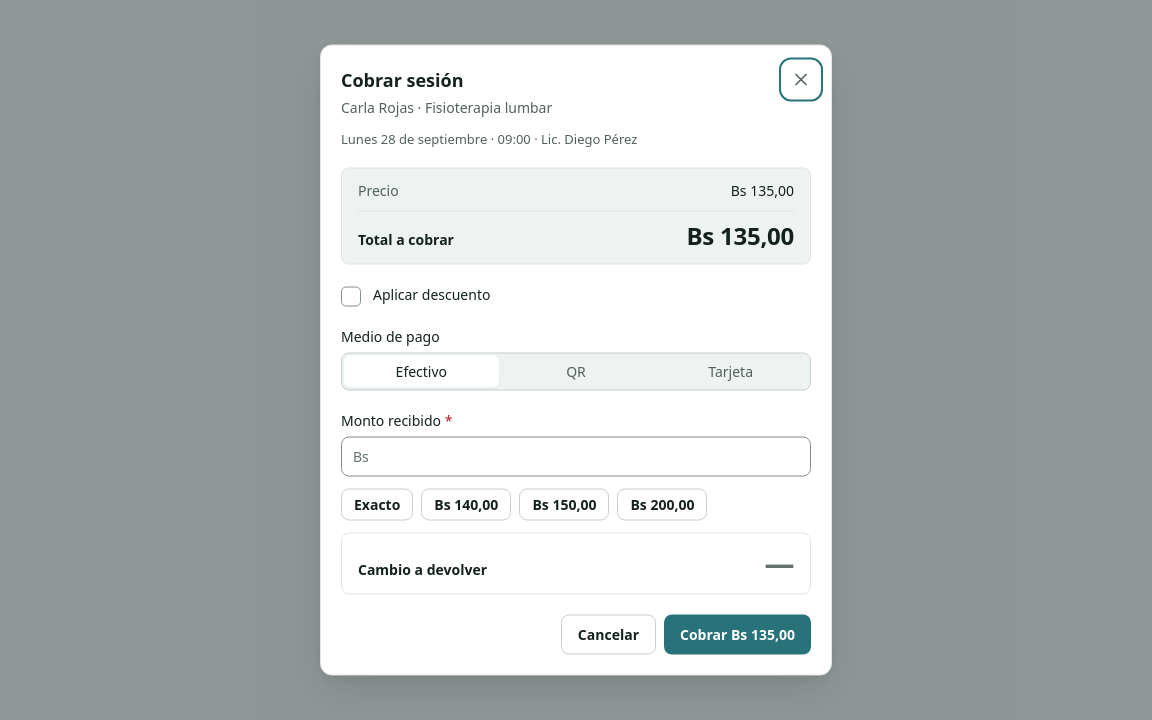
it: cobro de una sesión › calcula el cambio a devolver mientras se escribe el monto recibido
The image size is (1152, 720).
Expected: the text "Bs 135,00" in the row of "Total a cobrar" is shown, [686,218,794,252]
Type "200" into the field labelled "Monto recibido *". click: {"x": 576, "y": 456}
box: [341,436,811,476]
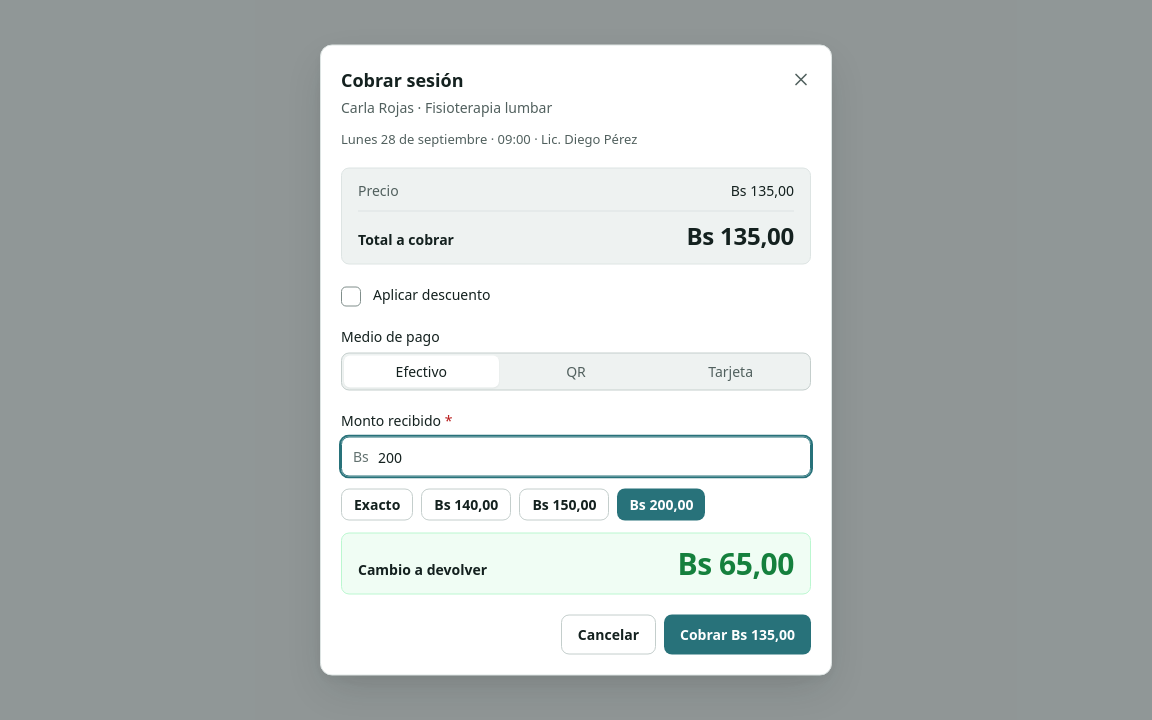
Click the button "Exacto". click: {"x": 377, "y": 504}
box: [341,488,413,520]
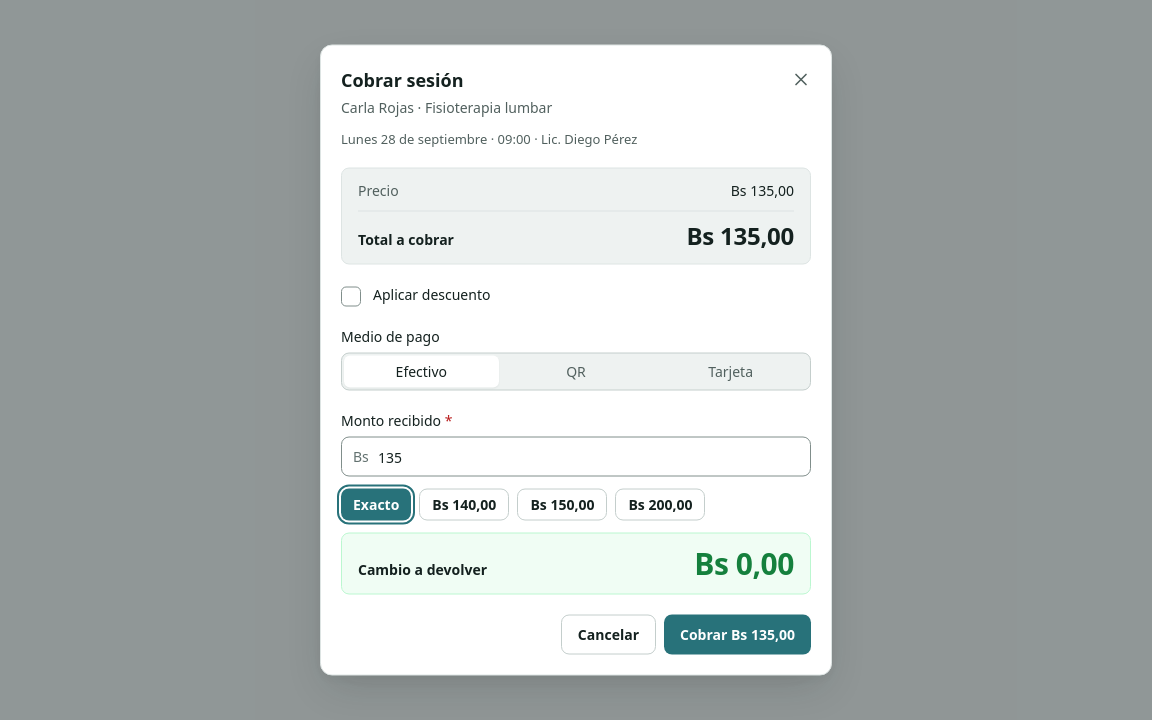
Expected: the field labelled "Monto recibido *" holds "135", [341,436,811,476]
